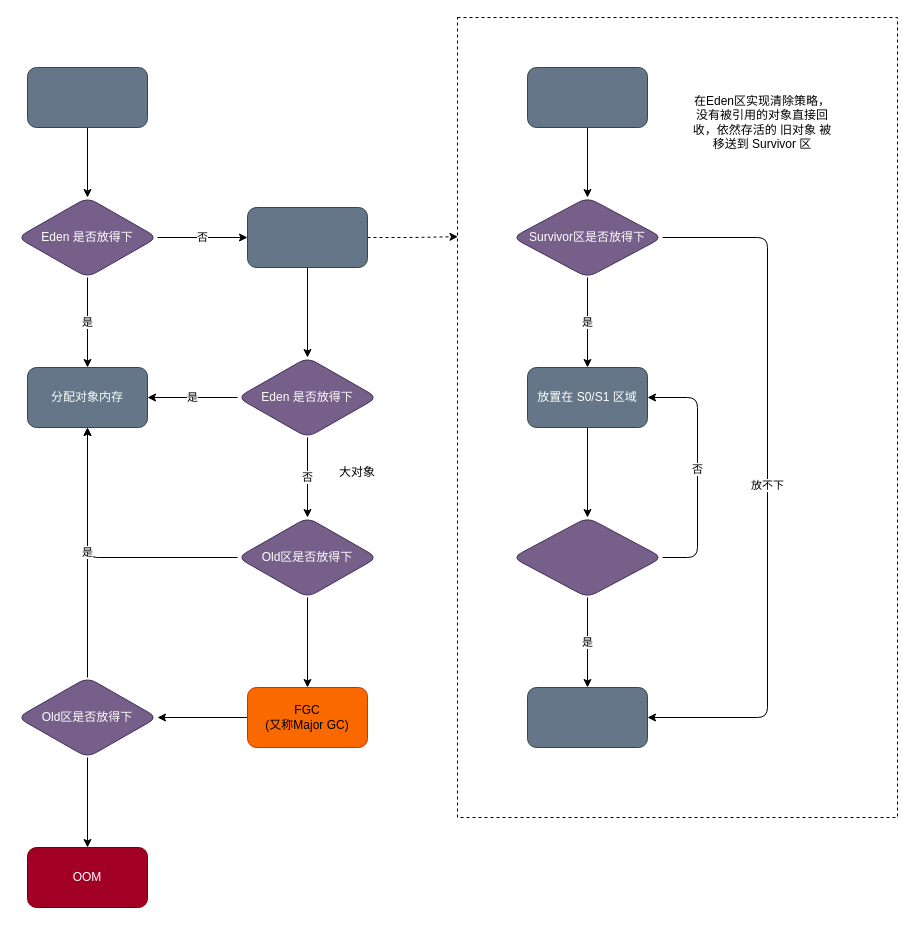
The diagram is 915 pixels wide and 925 high, and some of its shapes have lost their labels. The centre of each missing label's shape, as x and y in pixels:
"对象存活是否超过阈值" belongs at pixel 587 557.
"执行YGC (又称 Minor GC)" belongs at pixel 307 237.
"新对象" belongs at pixel 87 97.
"旧对象" belongs at pixel 587 97.
"晋升老年代" belongs at pixel 587 717.
